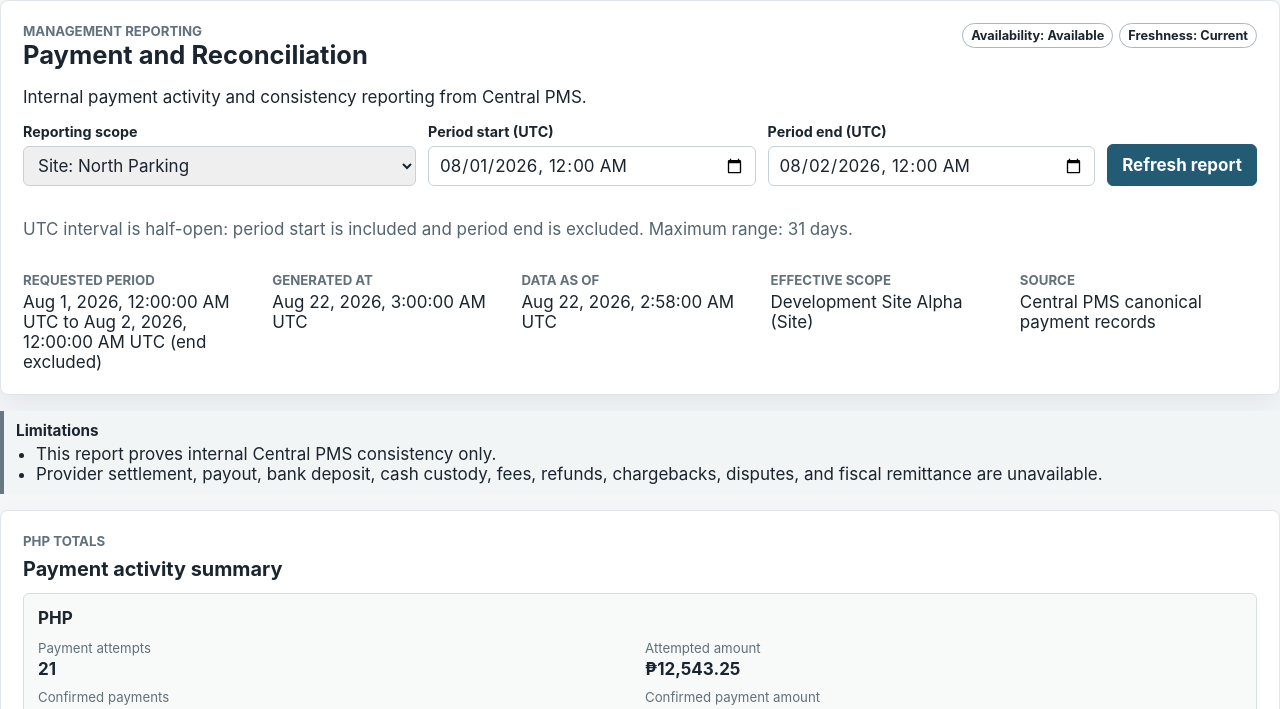
it: PaymentReconciliationPage › validates period order before issuing another request and focuses the input
Check: the heading "Payment activity summary" is shown, box [23,557,282,581]
Replace the text in the field labelled "Period start (UTC)" with "2026-08-03T00:00" at (592, 166), box [428,146,756,186]
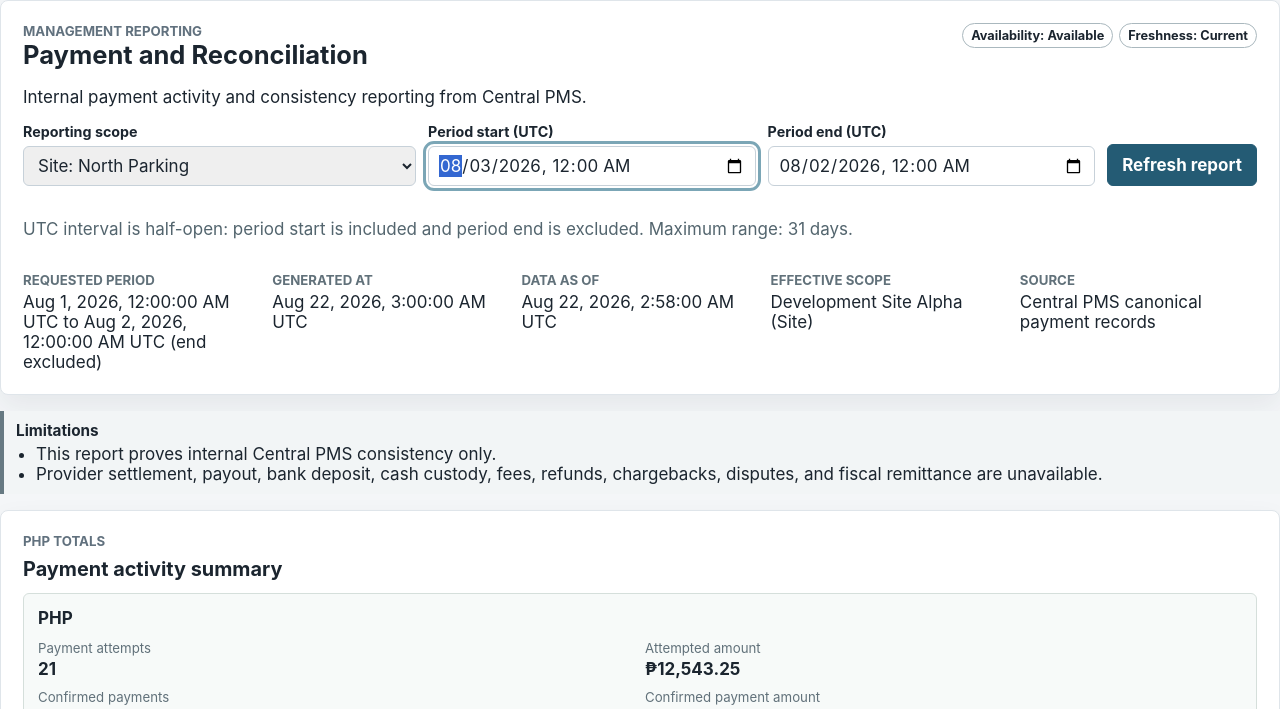
Click the button "Refresh report" at (1182, 165), box [1107,144,1257,186]
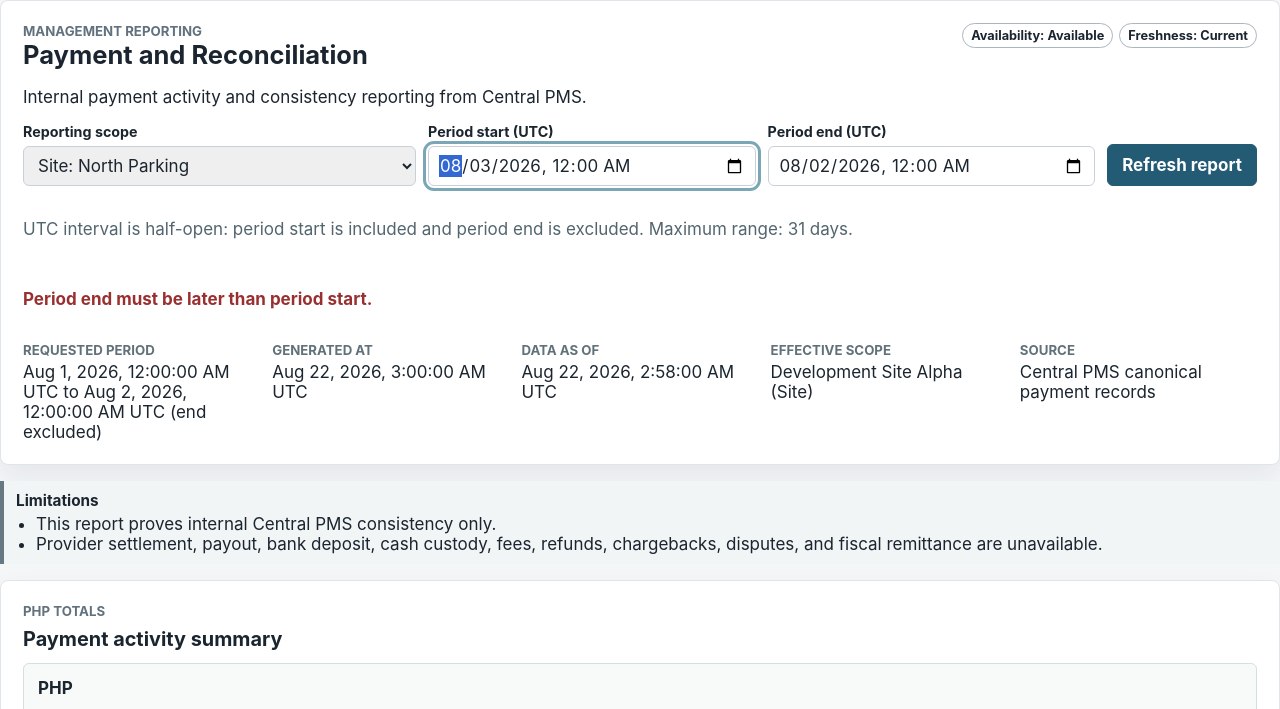
Check: the message shows "Period end must be later", box [23,289,372,309]
